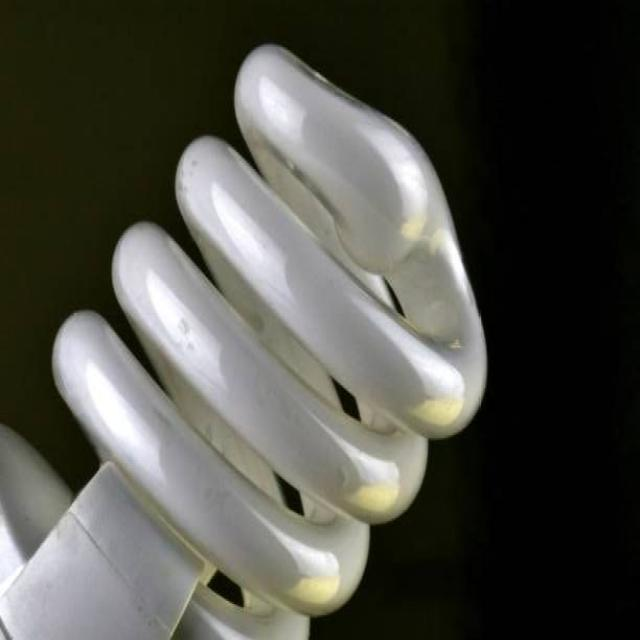electronic: (0, 39, 488, 638)
